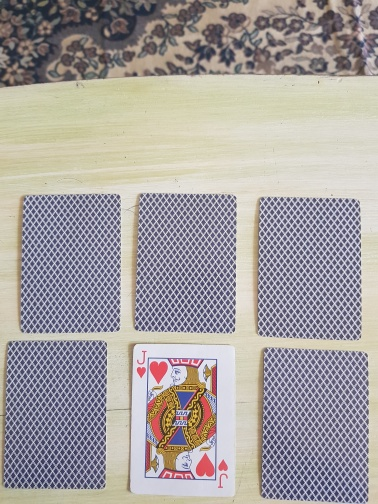jack: (128, 342, 238, 498)
